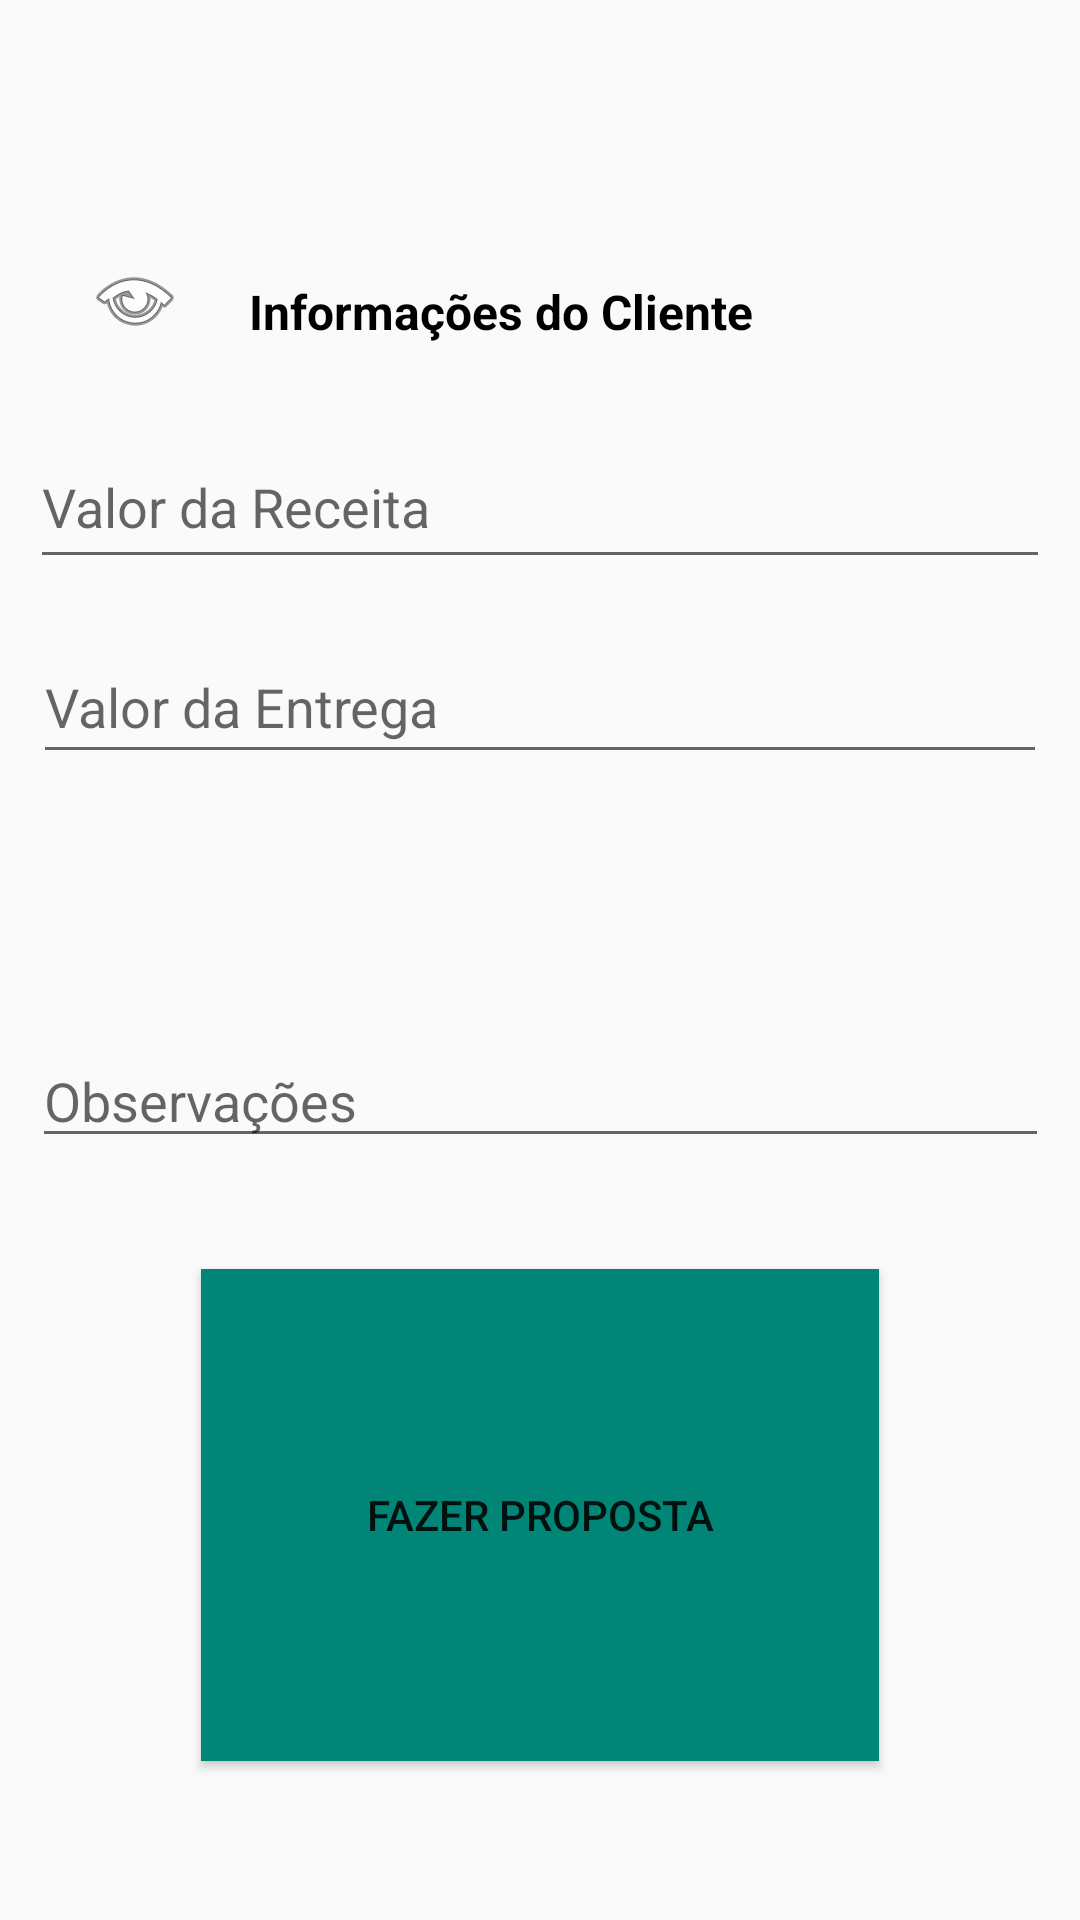

Named icons in this screenshot (1080×1920) and their centers, (x=x, y=y):
view: (x=135, y=301)
